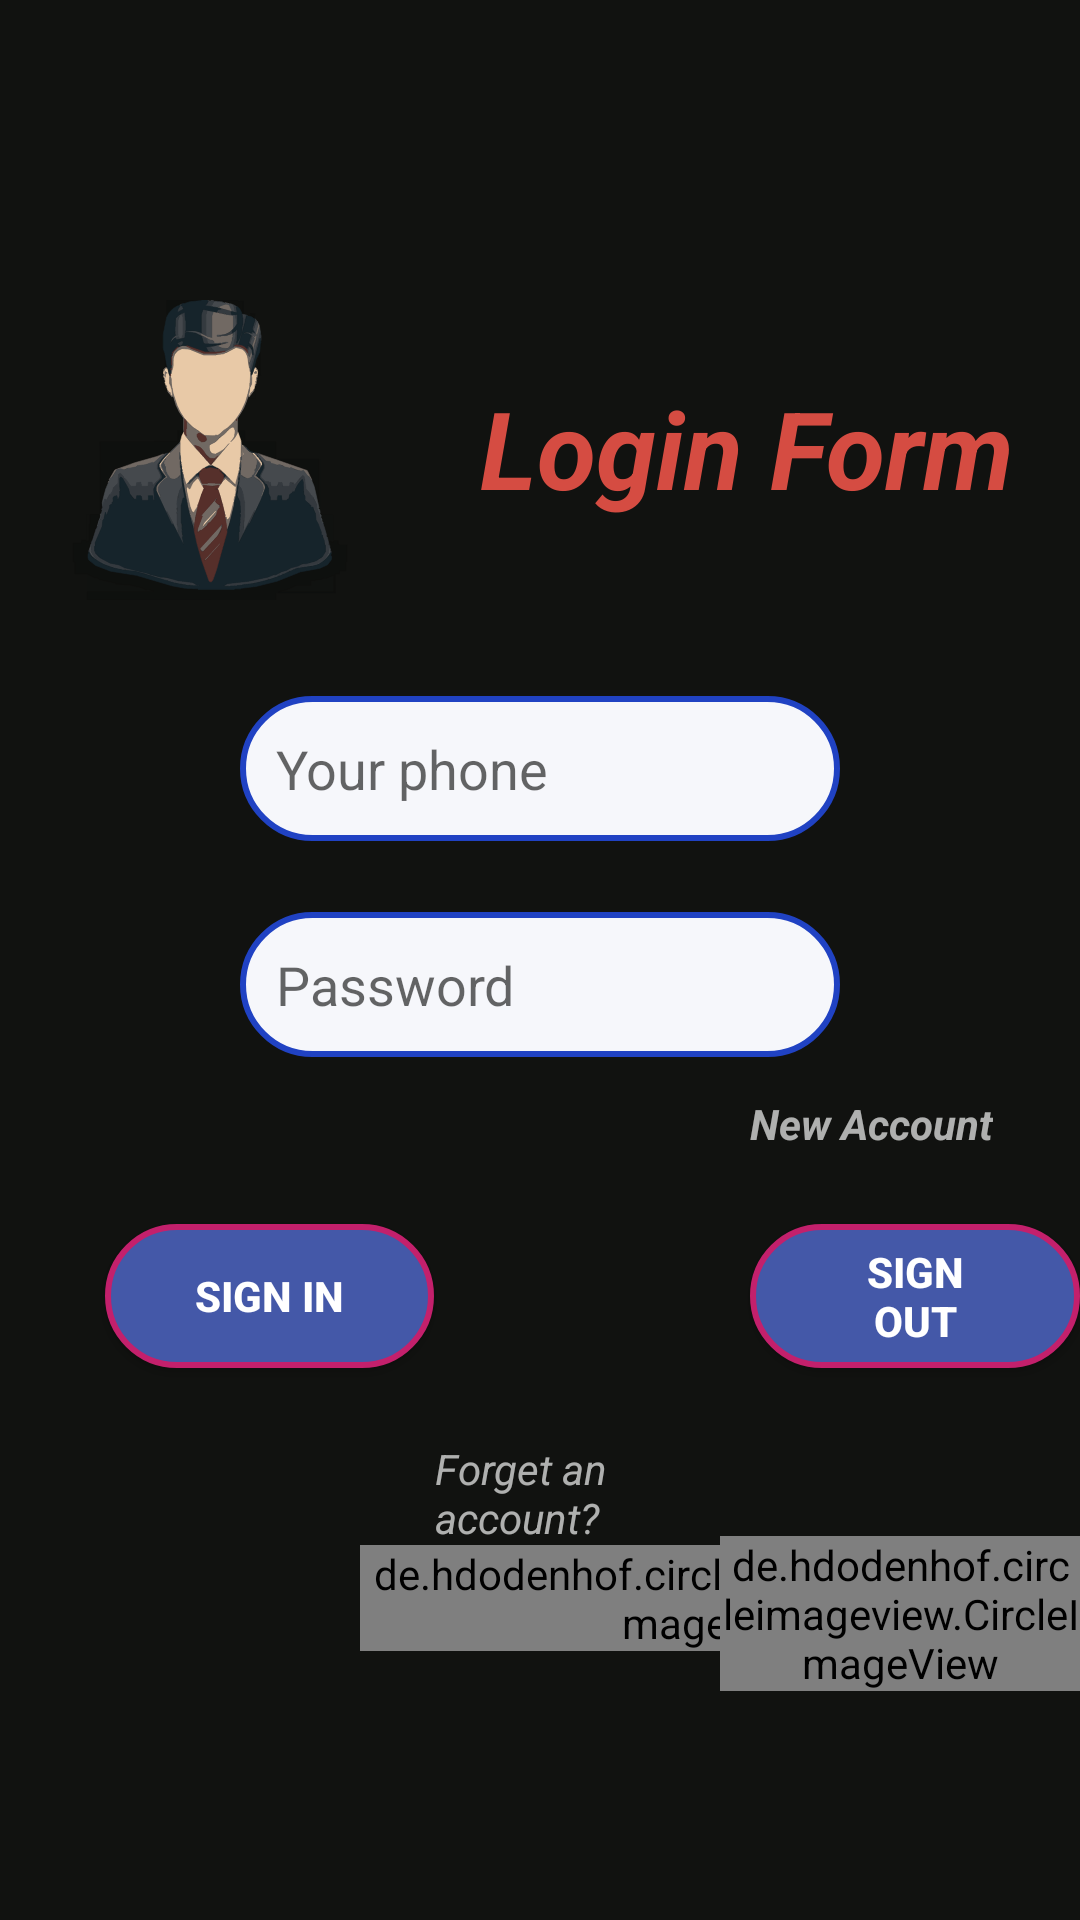

Where icons sit on this 1080×1920 app screen, as (x1, y1, x2, y2):
user: (88, 300, 331, 589)
